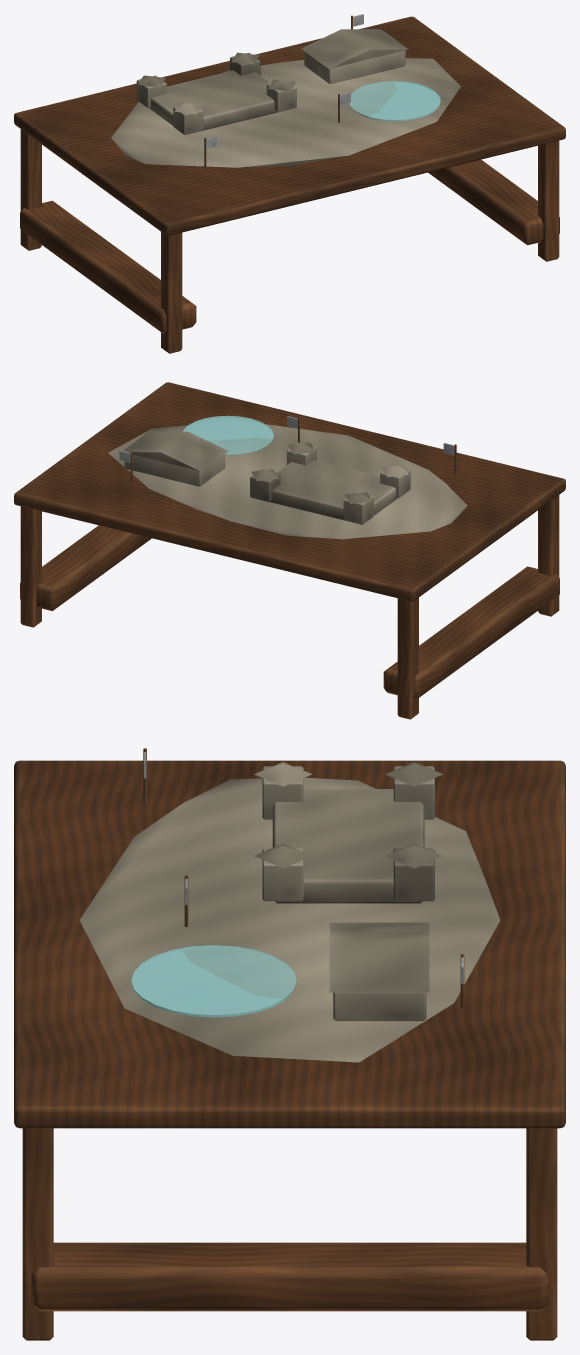
Rendered from Furn_Council_MapTable.fbx.
The picture shows the model from 3 angles, top to bottom: view 1: azimuth 30°, elevation 25°; view 2: azimuth 150°, elevation 25°; view 3: azimuth 270°, elevation 25°; orthographic projection. The views are drawn at different scales.
Visible parts, largest first — view 1: Furn_Council_MapTable; view 2: Furn_Council_MapTable; view 3: Furn_Council_MapTable.
Boxes of the visible parts, bbox=[...] form: Furn_Council_MapTable: bbox=[14, 14, 565, 353]; Furn_Council_MapTable: bbox=[14, 382, 565, 719]; Furn_Council_MapTable: bbox=[14, 748, 565, 1340].
Size of the model in its own units: 2.4 by 1.01 by 1.6.
Materials: 4 (3 with a texture image).
